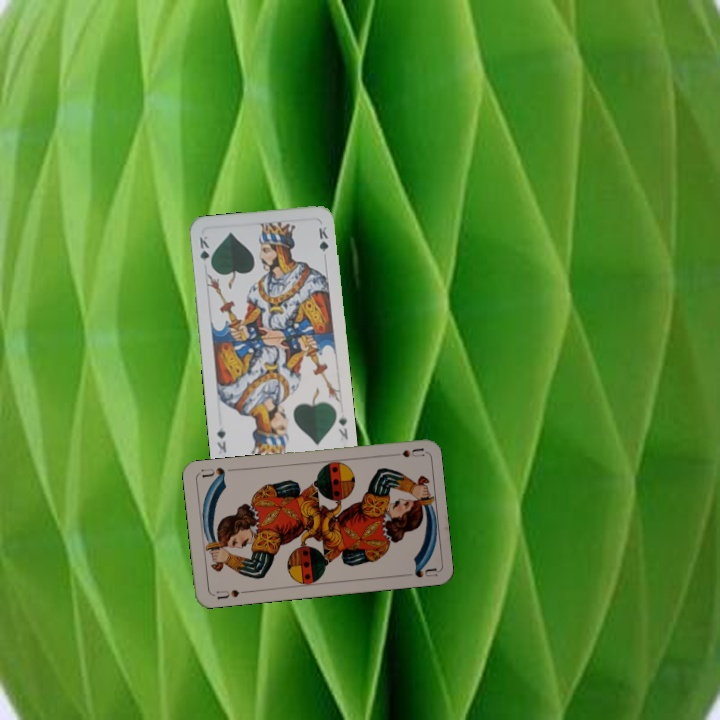GK: (195, 232, 214, 271), (334, 410, 350, 442)
SU: (384, 444, 425, 460), (209, 586, 250, 601)
